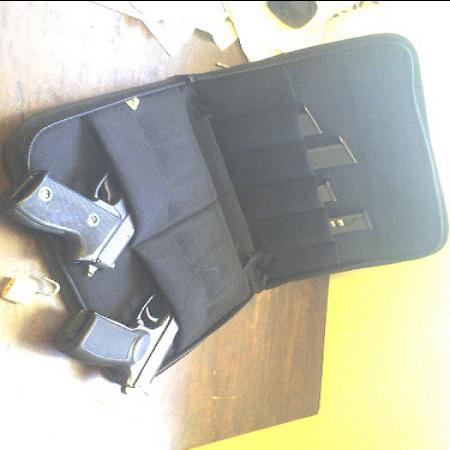Pistol: (13, 162, 156, 278), (52, 290, 200, 392)
